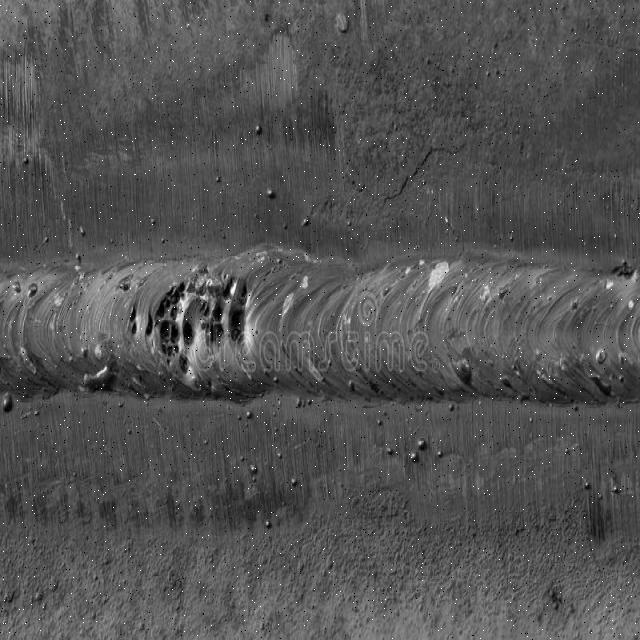Porosity: (143, 280, 195, 376), (197, 275, 249, 346), (127, 303, 138, 336)
